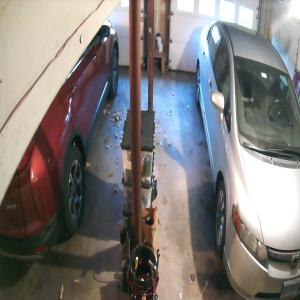honda civic: (195, 20, 300, 298)
honda crv: (0, 0, 119, 272)
tool bucket: (129, 240, 161, 299)
